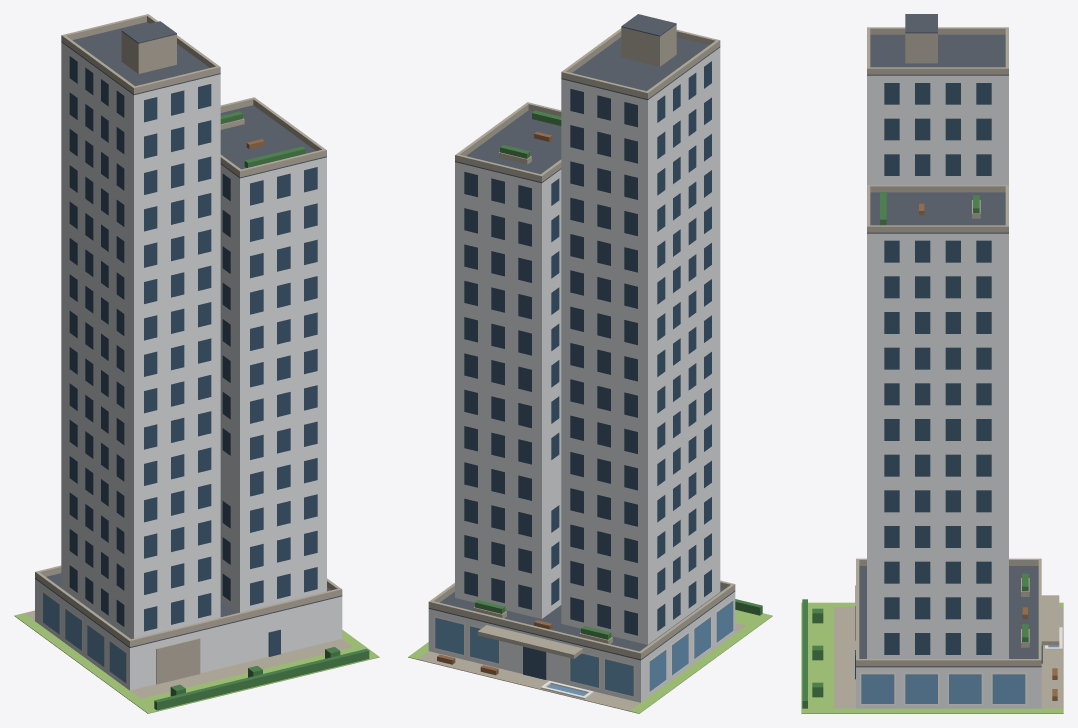
The picture shows the model from 3 angles, left to right: view 1: azimuth 30°, elevation 25°; view 2: azimuth 150°, elevation 25°; view 3: azimuth 270°, elevation 25°; orthographic projection.
Parts seen in each view (by area): view 1: wall (×3), roof (×4), parapet (×7), lawn (×2), hedge, paving, plant_room, garage_door; view 2: wall (×3), roof (×4), parapet (×6), storefront (×4), paving (×3), plant_room, canopy, lawn, door; view 3: wall (×3), roof (×4), parapet (×7), lawn (×2), storefront (×4), paving (×3), plant_room, canopy, hedge.
Boxes of the visible parts, x1,y1,x2,y2 form: wall (×3): (35, 42, 342, 690); roof (×4): (35, 21, 342, 647); parapet (×7): (36, 14, 342, 646); lawn (×2): (14, 613, 379, 713); hedge: (154, 648, 369, 710); paving: (32, 618, 352, 698); plant_room: (121, 32, 176, 73); garage_door: (156, 638, 200, 684); wall (×3): (428, 47, 735, 702); roof (×4): (428, 14, 735, 660); parapet (×6): (428, 41, 733, 659); storefront (×4): (435, 618, 633, 696); paving (×3): (417, 623, 746, 711); plant_room: (621, 24, 676, 66); canopy: (477, 625, 582, 658); lawn: (629, 625, 756, 713); door: (523, 646, 546, 679); wall (×3): (856, 75, 1041, 708); roof (×4): (856, 14, 1041, 667); parapet (×7): (856, 27, 1041, 666); lawn (×2): (801, 602, 1063, 713); storefront (×4): (861, 674, 1025, 703); paving (×3): (834, 607, 1063, 708); plant_room: (905, 33, 937, 63); canopy: (1041, 595, 1059, 645); hedge: (802, 599, 807, 708).
Bounding box in the file's own units: 24 × 61.56 × 24.
